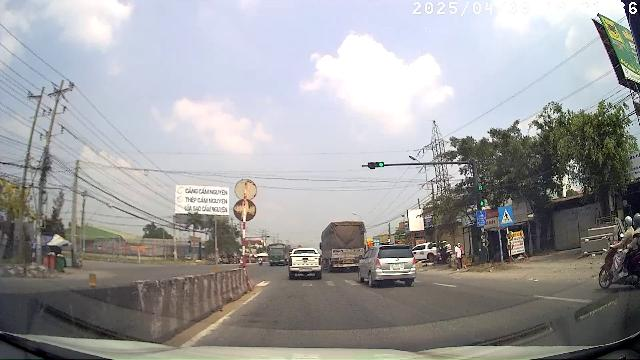423a-duong-nguoi-di-bo-sang-ngang-1: (498, 207, 514, 225)
